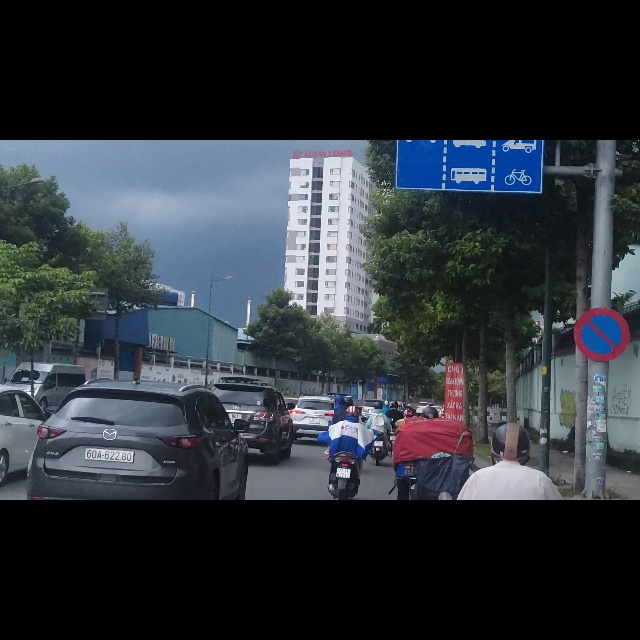bien_chi_dan: (574, 298, 630, 396)
